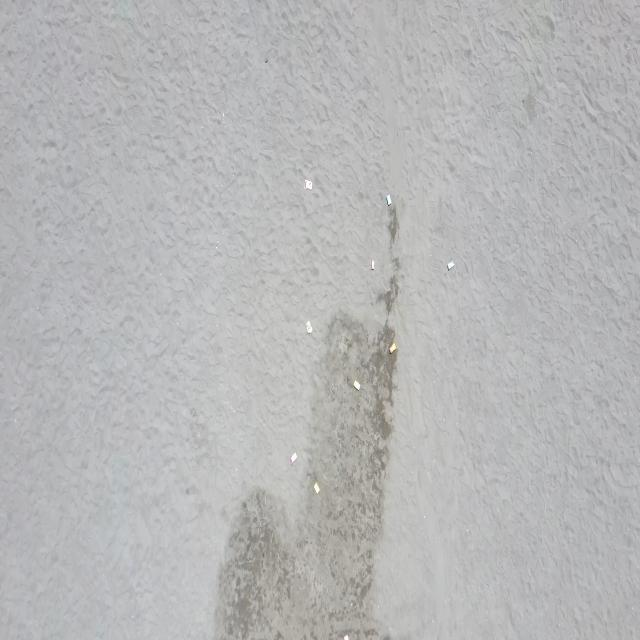retort-pouch: (304, 178, 313, 193), (306, 319, 314, 335), (290, 450, 298, 465), (353, 378, 361, 392), (446, 258, 454, 272), (389, 341, 396, 356), (313, 481, 320, 495), (370, 256, 376, 270), (386, 194, 392, 206)
